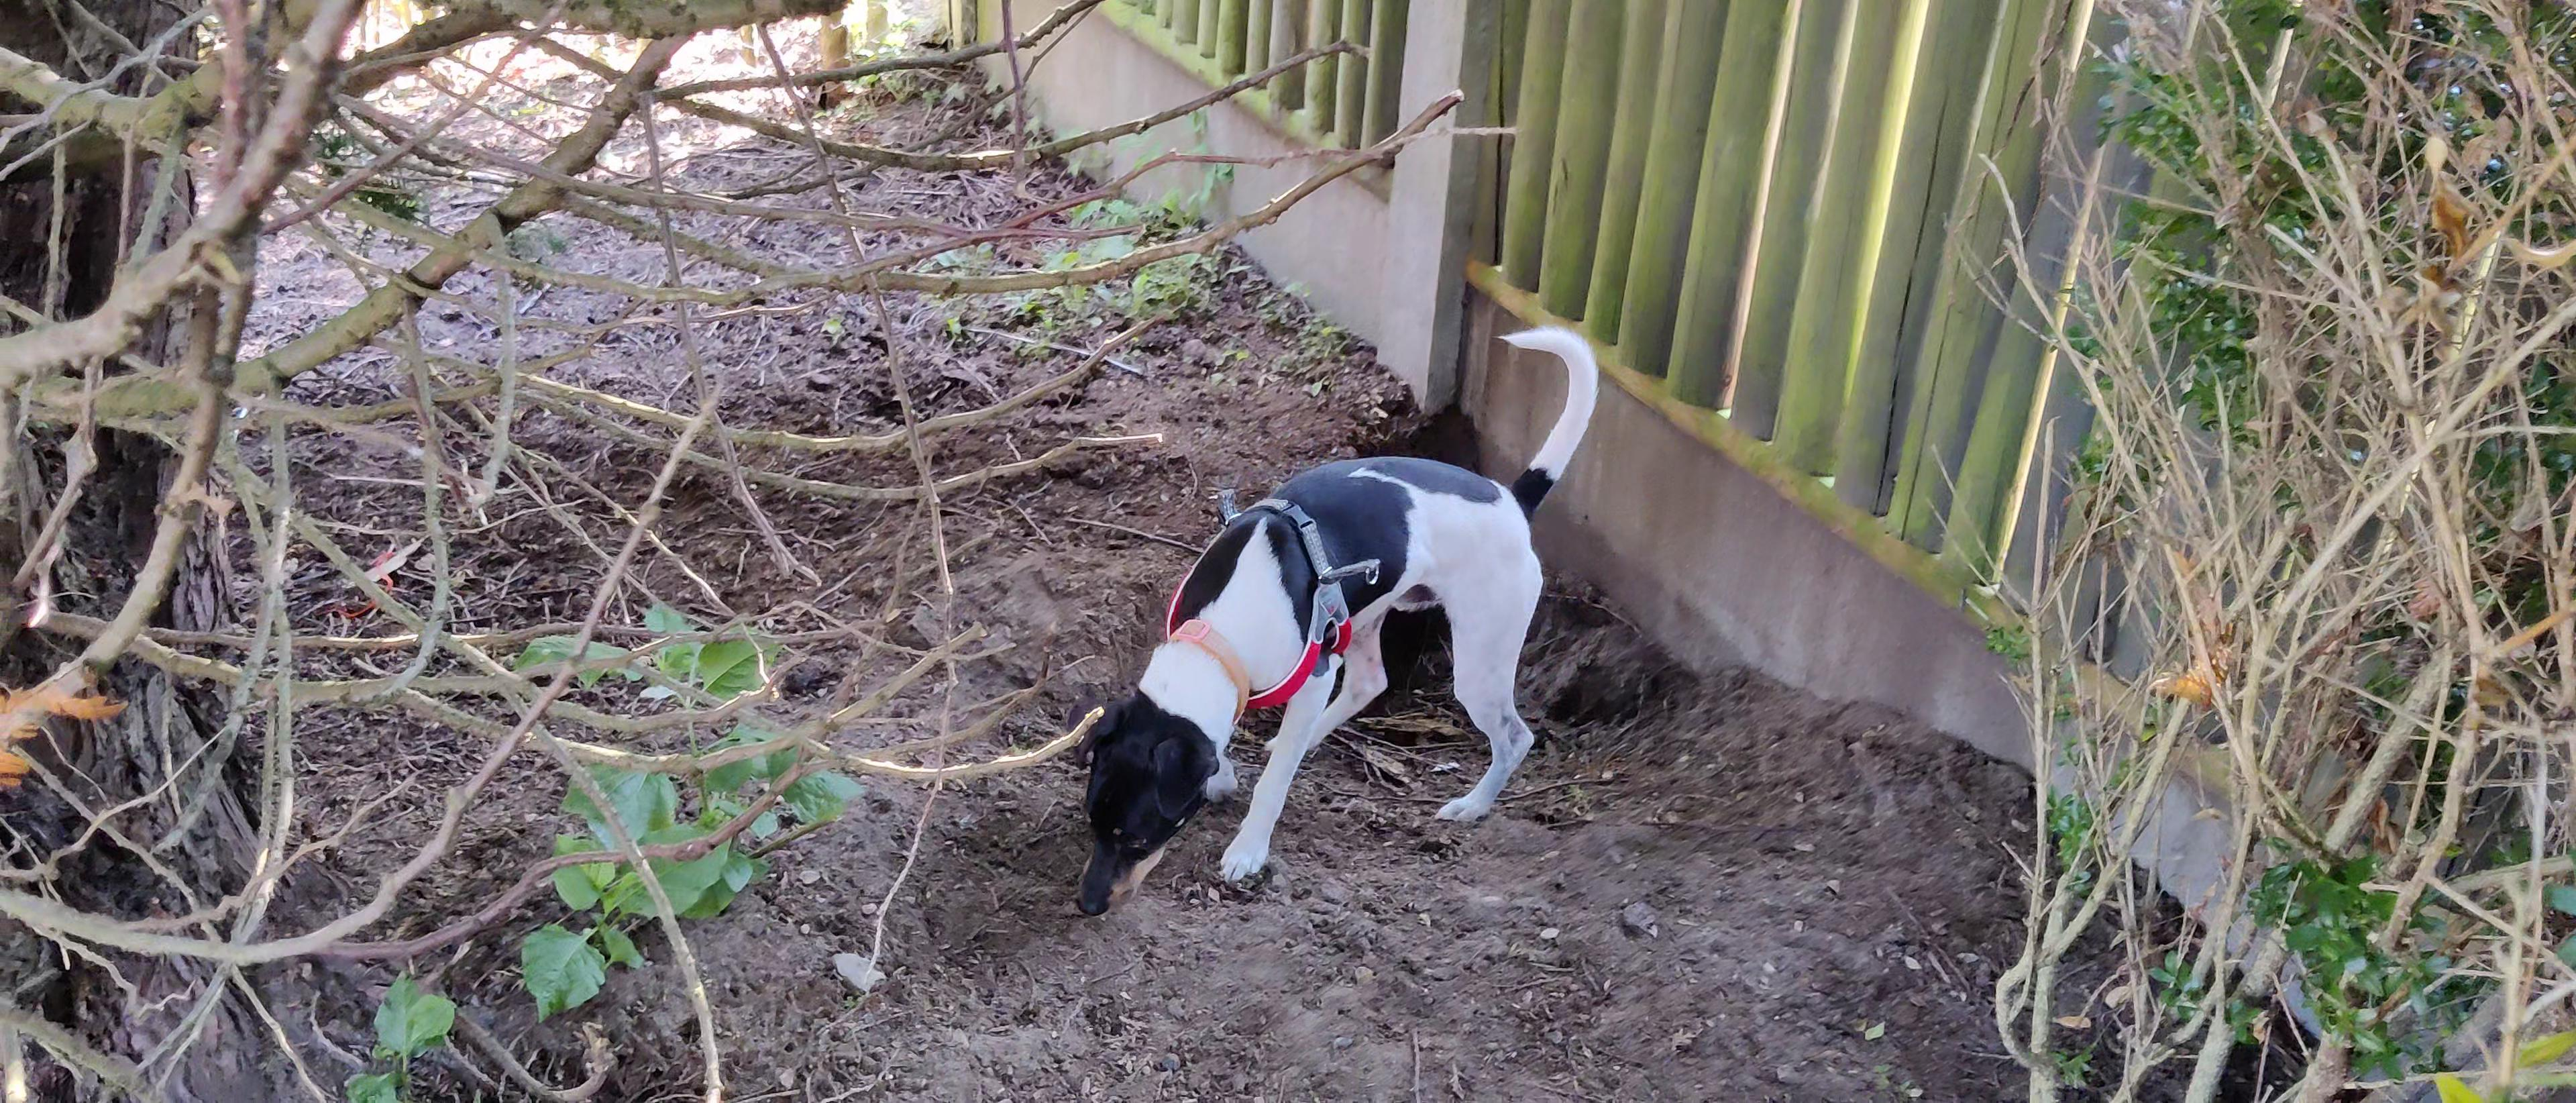Dog: (1046, 316, 1630, 934)
